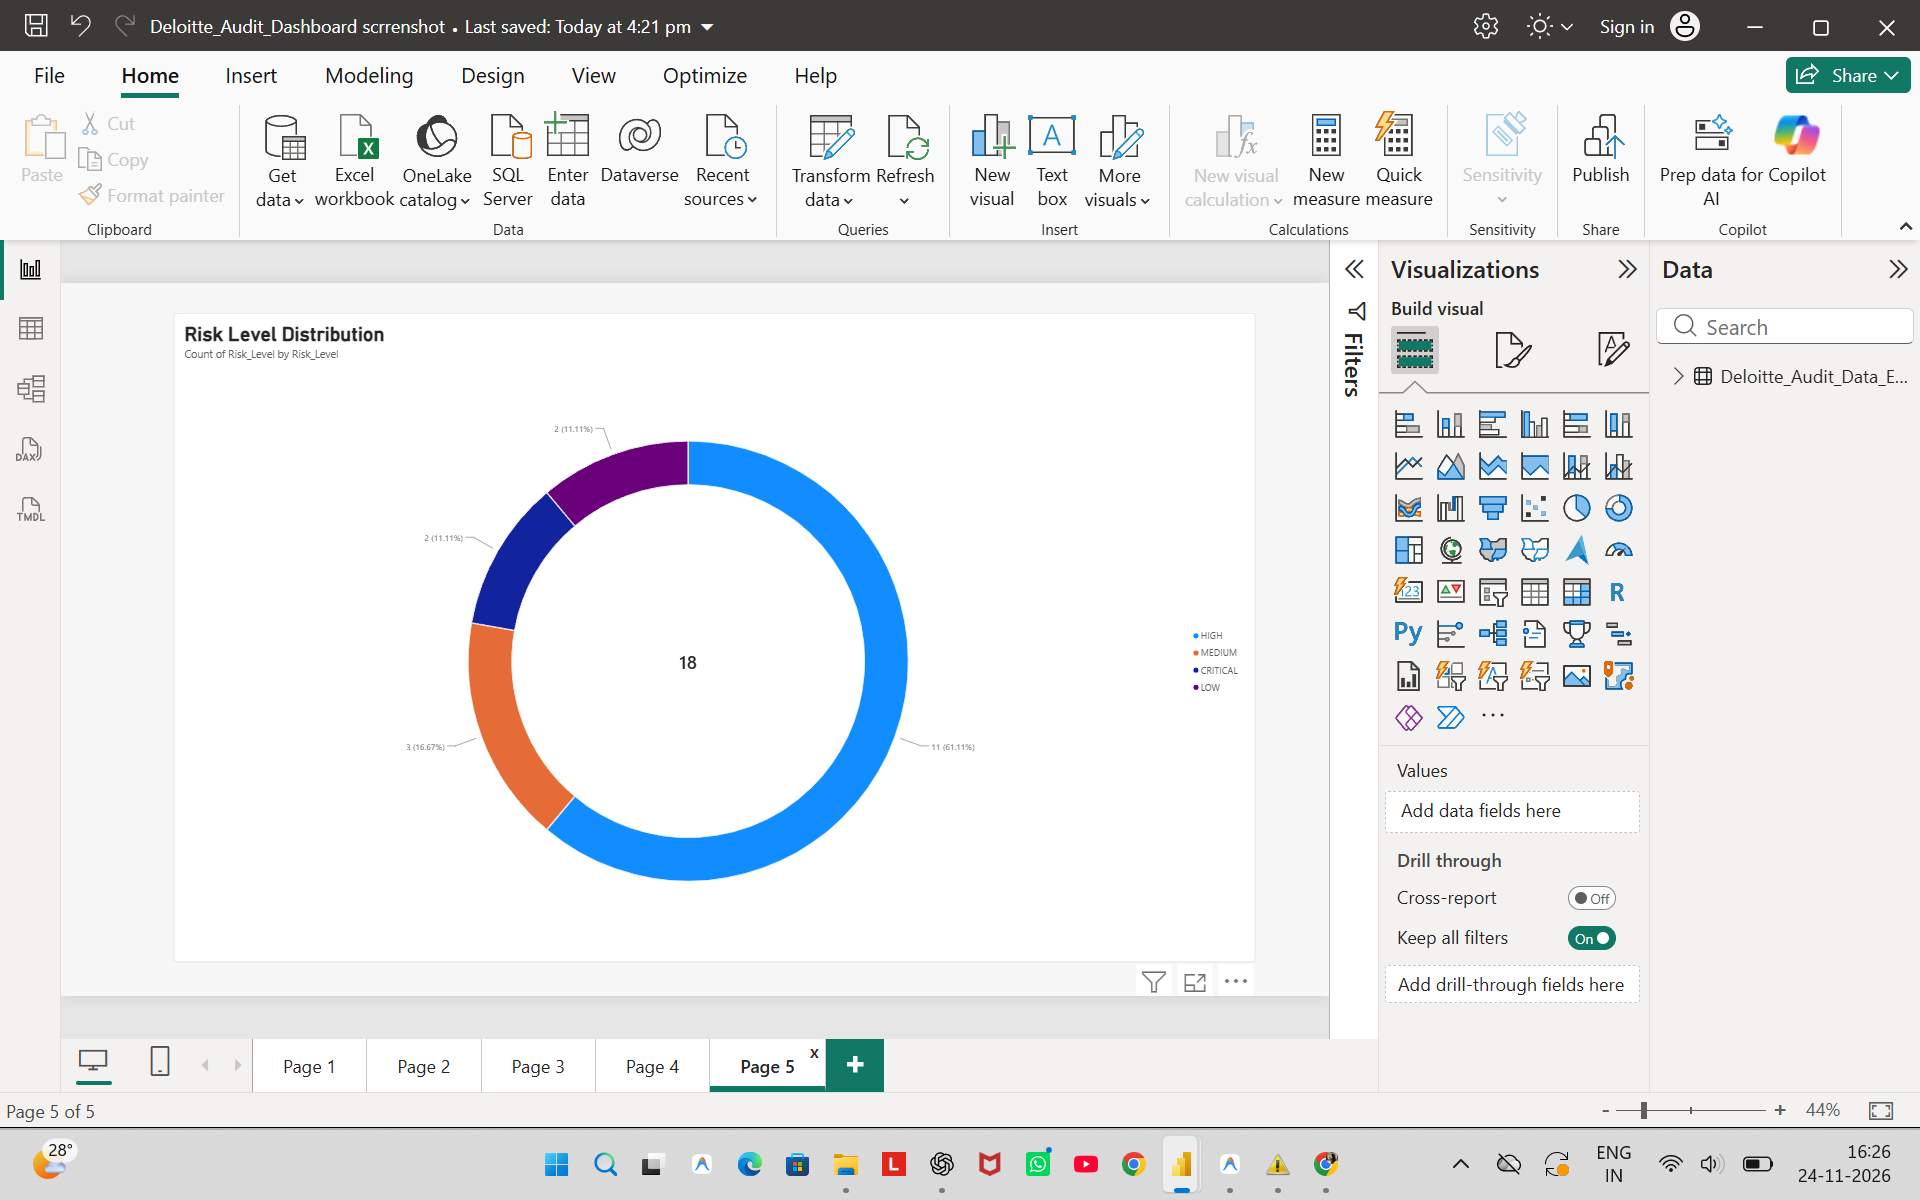

The page's visual inventory and layout, read from the dashboard file:
{"tool":"powerbi","page":{"name":"Page 5","canvas":[1920,1080],"ordinal":4},"visuals":[{"type":"donutChart","title":"Risk Level Distribution","fields":{"Category":["Deloitte_Audit_Data_Export_2026.Risk_Level"],"Y":["CountNonNull(Deloitte_Audit_Data_Export_2026.Risk_Level)"]},"box":[170.1,45.4,1638.4,983.6],"z":0}]}

Visuals, with their boxes on the page's 1920x1080 design canvas (x1, y1, x2, y2). These are canvas units, not pixel positions in the 1920x1200 screenshot, which may show the page scaled, cropped or inside an application window:
"Risk Level Distribution" donutChart: 170, 45, 1808, 1029
